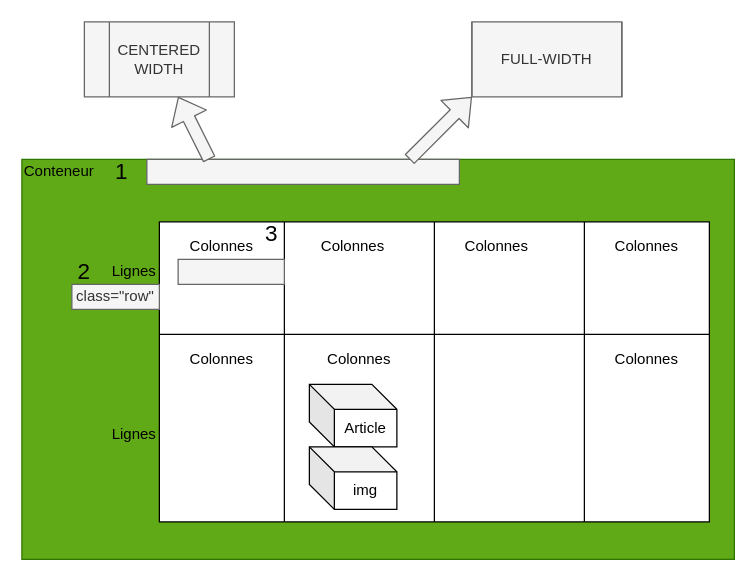
The diagram is 756 pixels wide and 581 high, and some of its shapes have lost their labels. Each missing label, with the centre of its shape:
class="col-n": pixel 230 271
class="container" OU class="container-fluid": pixel 302 171
